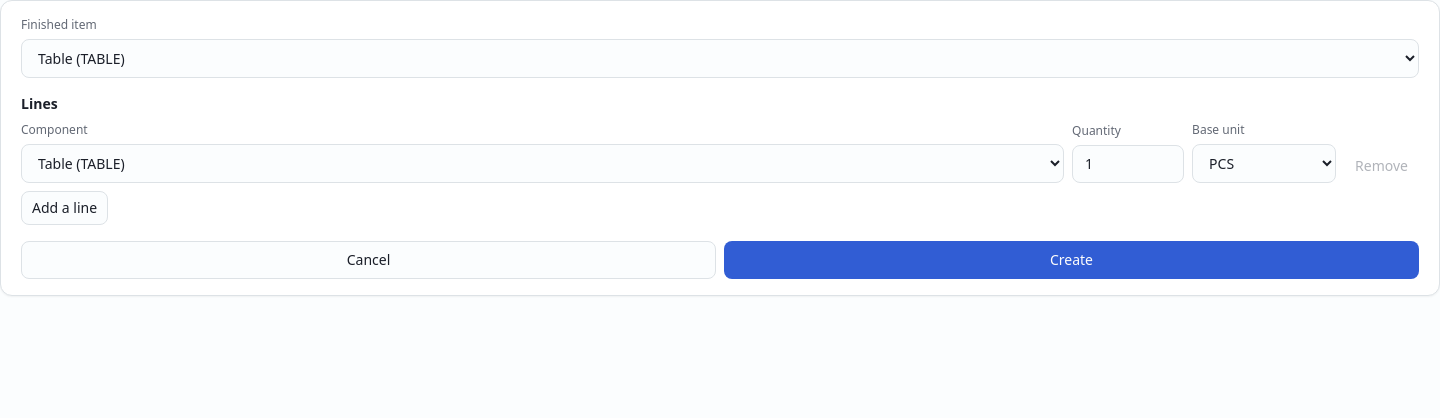
Test case: BomForm › grows lines and shows the refusal without navigating
Expected: the dropdown labelled "Finished item" is shown, [21,39,1419,78]
Click the button "Add a line": (65, 208) [21,191,108,225]
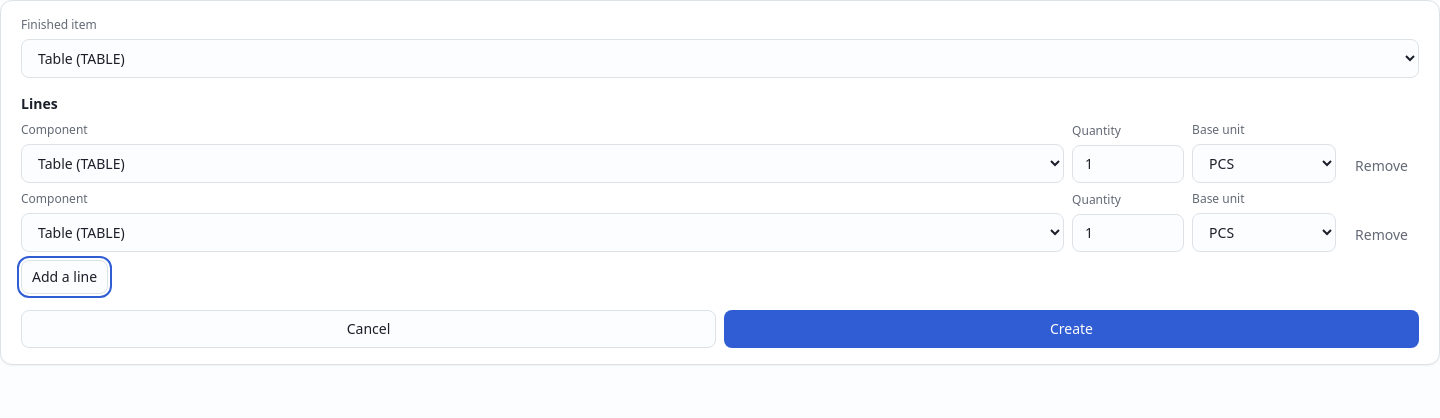
Expected: the number of fields labelled "Quantity" is 2, [1072,145,1184,183]; [1072,214,1184,252]
Click the button "Create": (1072, 329) [724,310,1419,348]
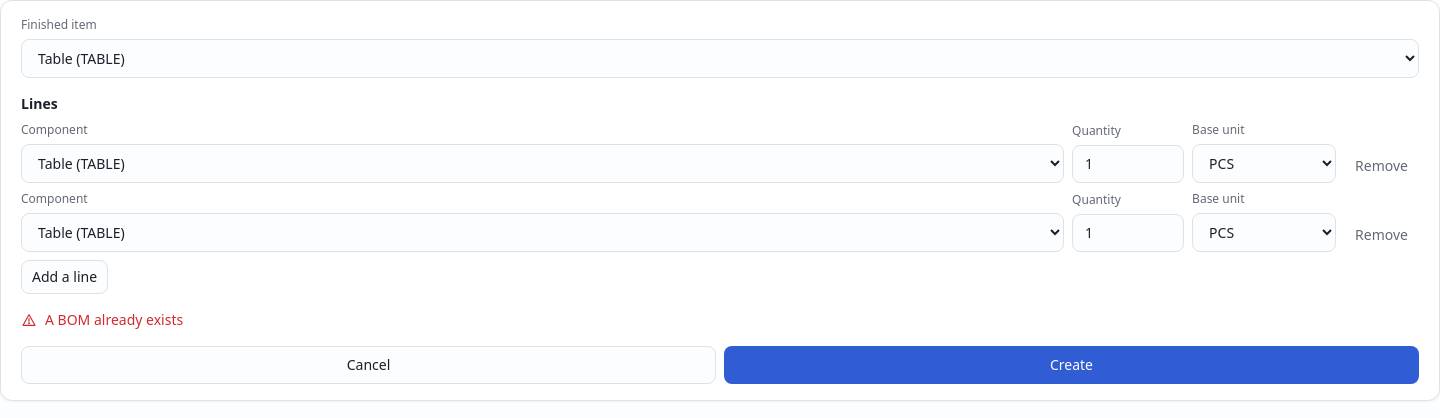
Expected: the message reads "A BOM already exists", [45,310,183,329]
